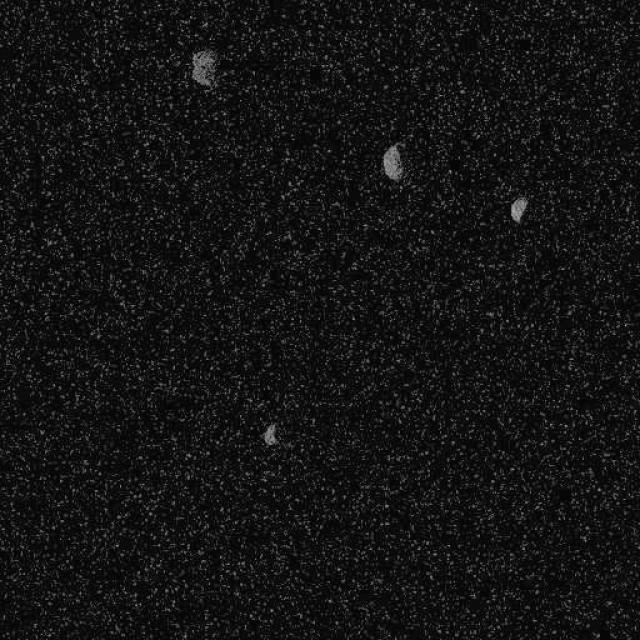D2: (189, 46, 219, 89), (381, 141, 404, 181), (509, 195, 529, 223), (261, 422, 279, 447)
